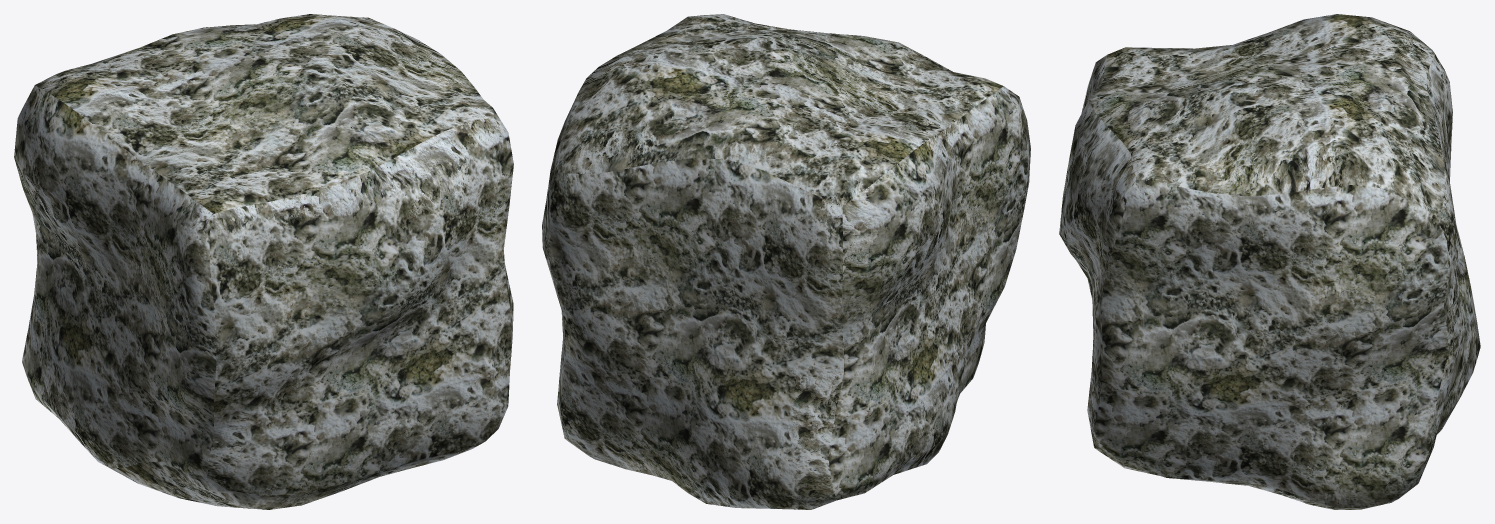
File: rock_sml.fbx
3 views of the same model, side by side, from view 1: azimuth 30°, elevation 25°; view 2: azimuth 150°, elevation 25°; view 3: azimuth 270°, elevation 25° (orthographic). The views are drawn at different scales.
Visible parts, largest first — view 1: rock_sml; view 2: rock_sml; view 3: rock_sml.
Part boxes in pixels (box(x1,y1,x2,y2)): rock_sml: box(14, 14, 513, 509); rock_sml: box(542, 14, 1030, 509); rock_sml: box(1059, 14, 1480, 509).
Size of the model in its own units: 0.6101 by 0.6148 by 0.6062.
1 material, 1 textured.
